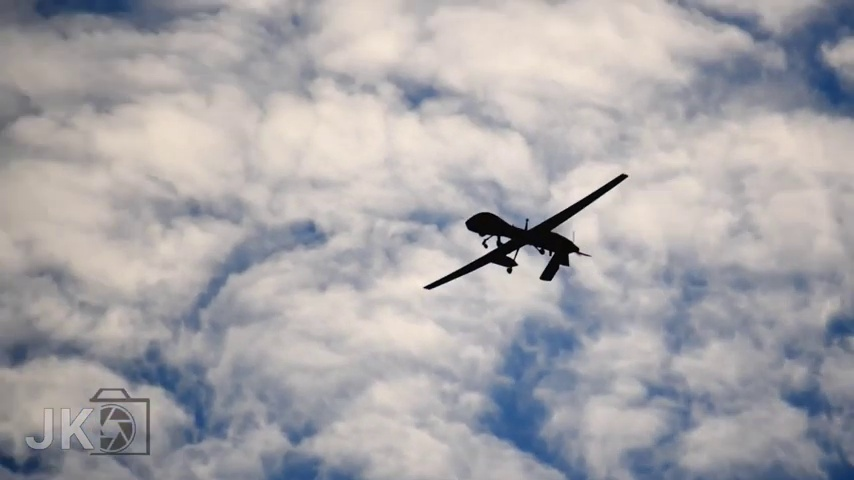military drone: (423, 173, 629, 290)
